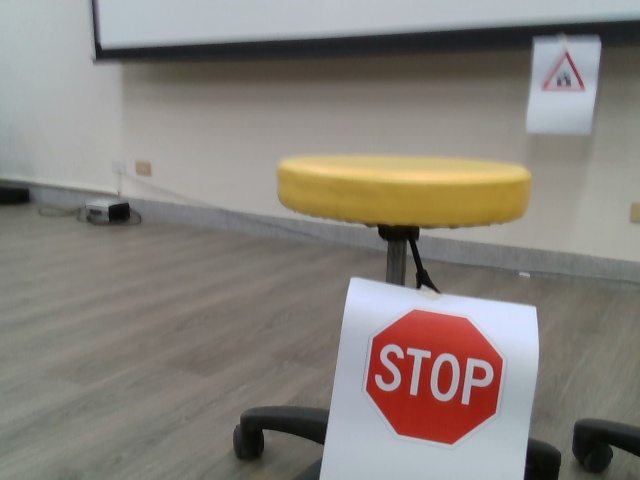stop: (361, 307, 506, 449)
